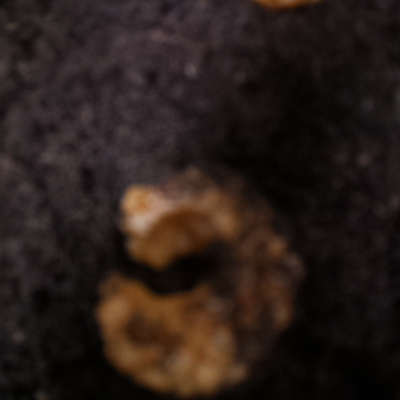eggs: (89, 151, 310, 400)
